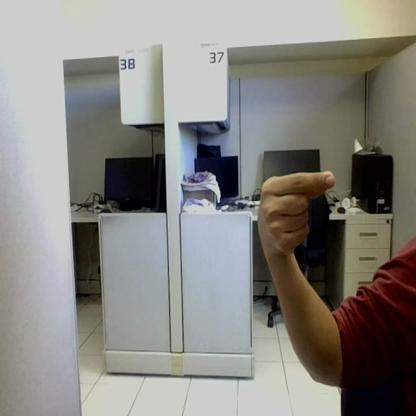G: (261, 172, 334, 256)
